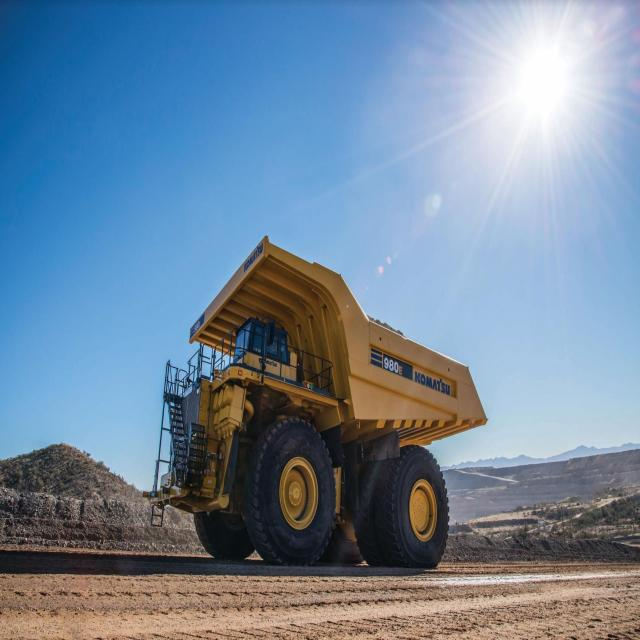dump_truck: (148, 224, 484, 601)
